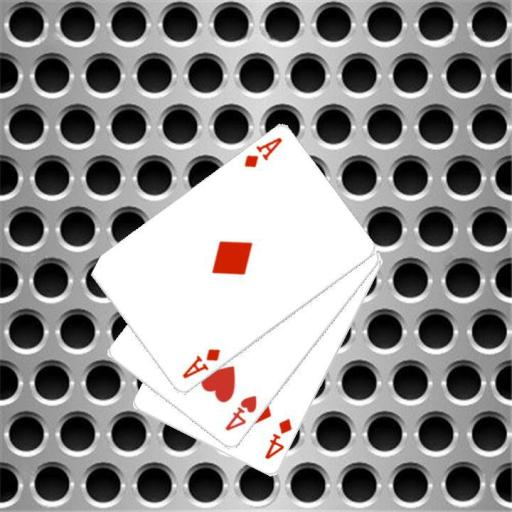4D: (262, 416, 294, 462)
4H: (221, 393, 259, 433)
AD: (240, 134, 284, 170), (178, 346, 222, 381)
